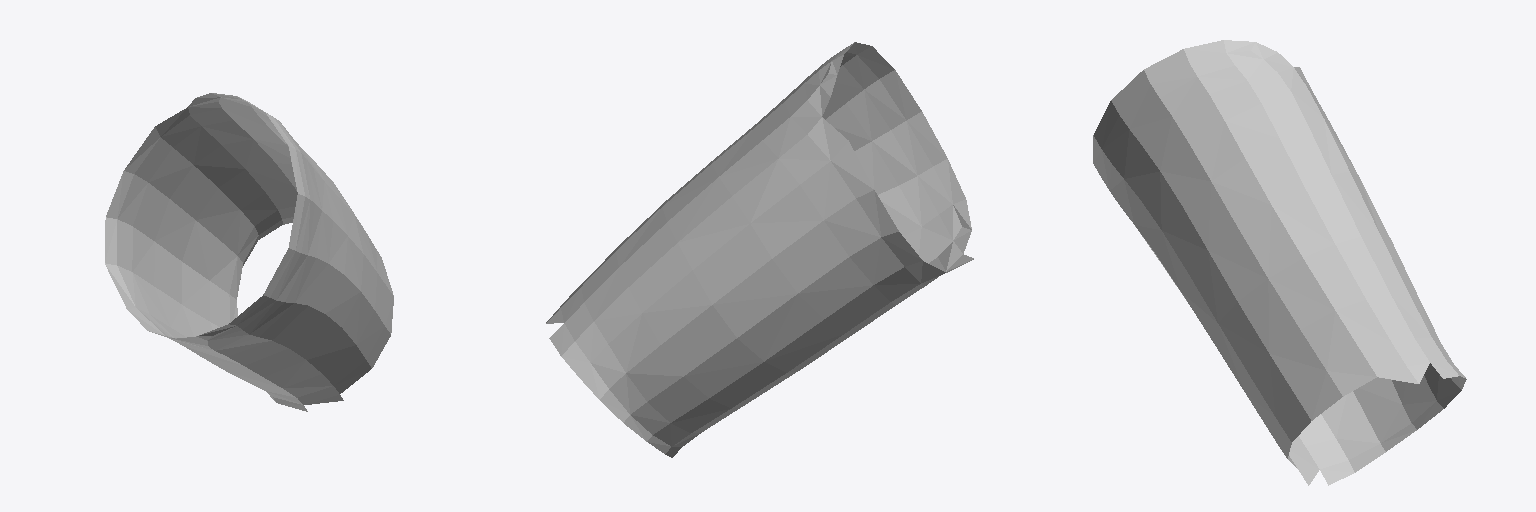
The model's file is fMid.obj.
The picture shows the model from 3 angles: view 1: azimuth 30°, elevation 25°; view 2: azimuth 150°, elevation 25°; view 3: azimuth 270°, elevation 25°; orthographic projection.
Visible parts, largest first — view 1: arm.001_arm.002; view 2: arm.001_arm.002; view 3: arm.001_arm.002.
Part boxes in pixels (x1,y1,x2,y2): arm.001_arm.002: (105,93,393,411); arm.001_arm.002: (546,42,973,457); arm.001_arm.002: (1093,40,1466,485).
Bounding box in the file's own units: 0.0656 × 0.0765 × 0.0673.